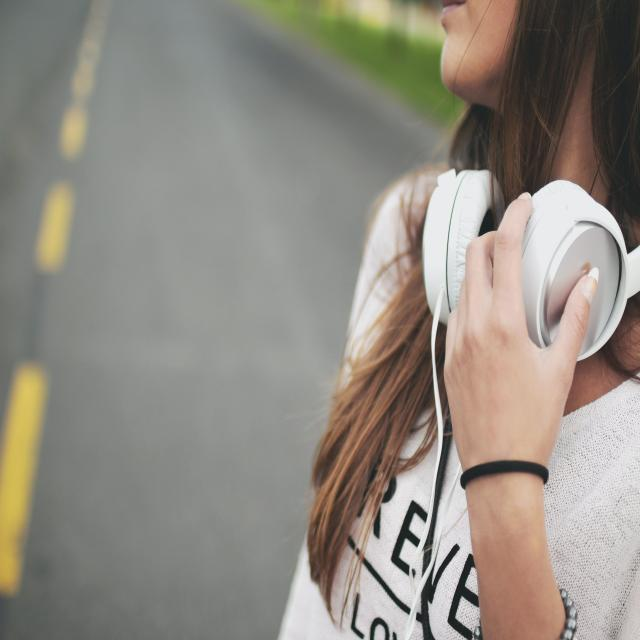Headphone: (421, 169, 640, 362)
